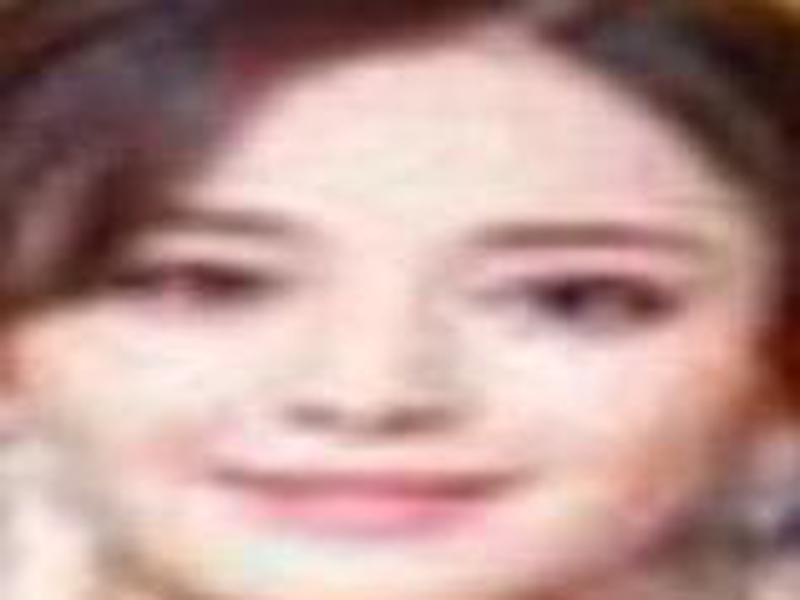without_mask: (27, 91, 766, 600)
